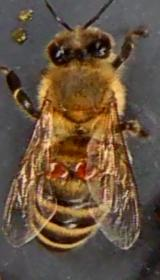varroa_mite: (67, 155, 103, 182), (44, 153, 71, 180)
